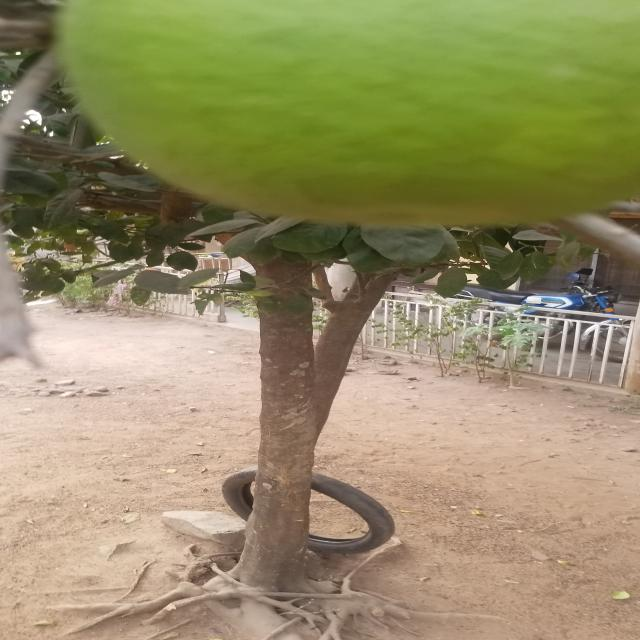Unripe: (49, 0, 627, 229)
